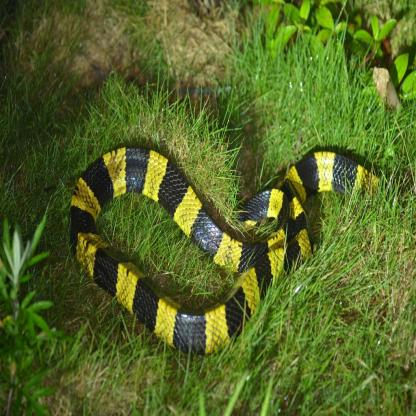Snake: (64, 136, 392, 355)
